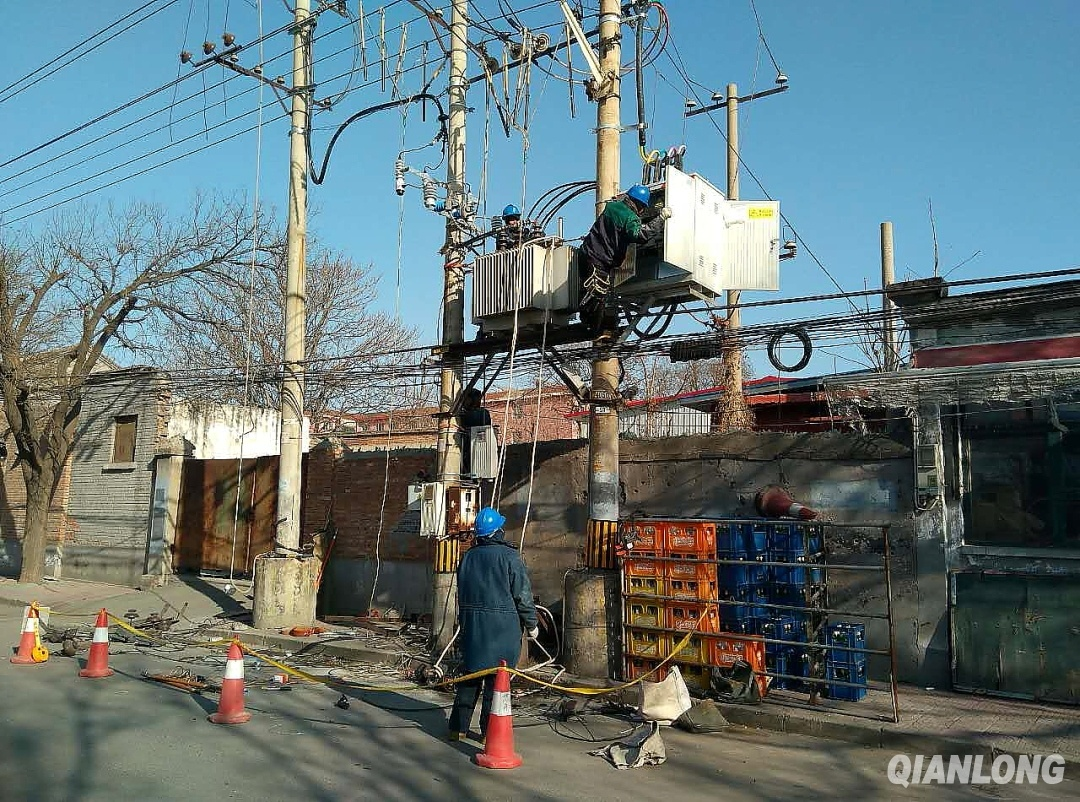blue: (471, 506, 510, 547), (624, 180, 651, 214), (502, 202, 522, 226)
